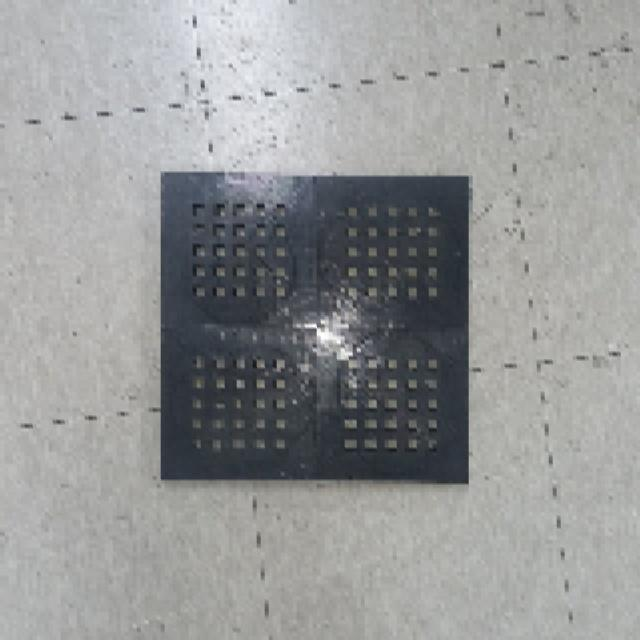pallet: (154, 166, 472, 485)
